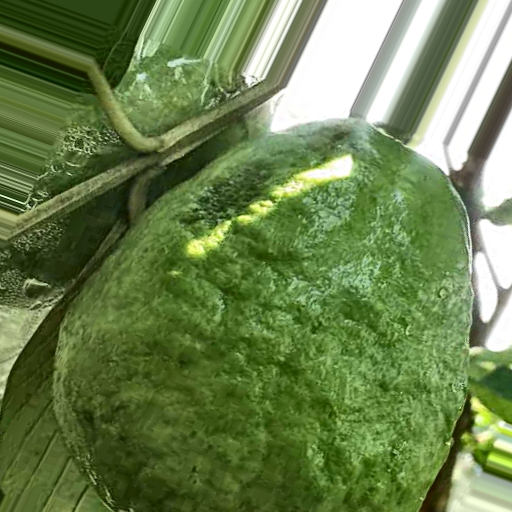guava: (88, 94, 457, 512)
